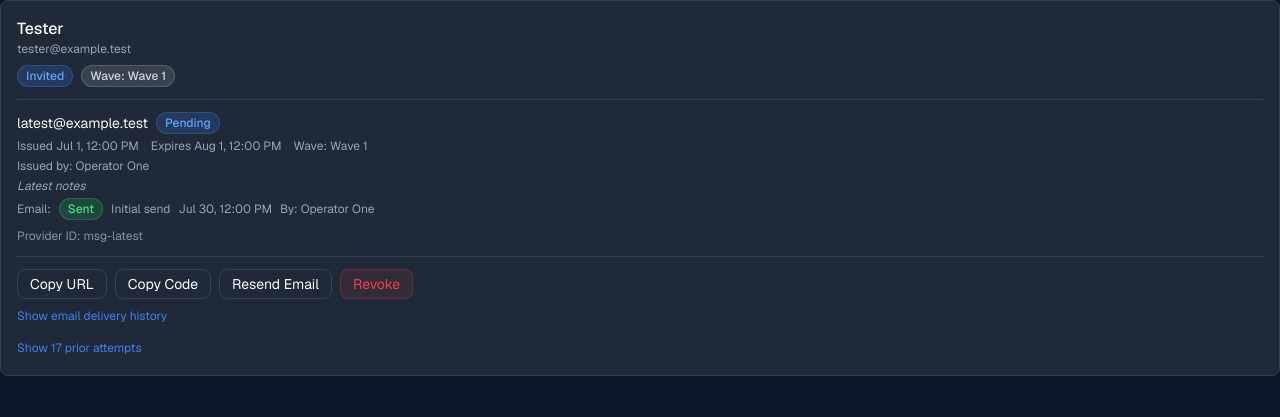
it: DeliveryHistoryDisclosure (#175) › surfaces a load error without crashing
Click the button "Show email delivery history" at (92, 316), box [17,308,167,324]
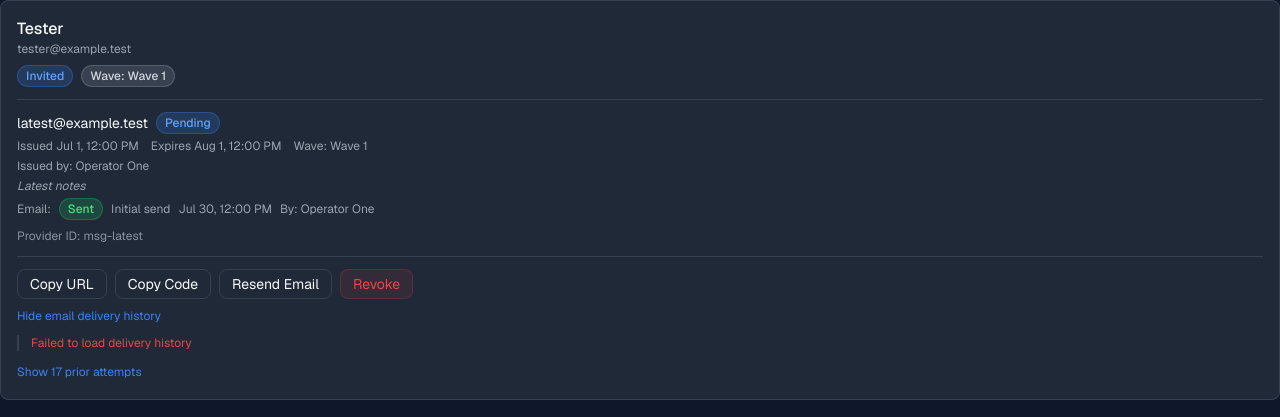
Expected: the text "Failed to load delivery history" is shown, [31,335,192,351]
